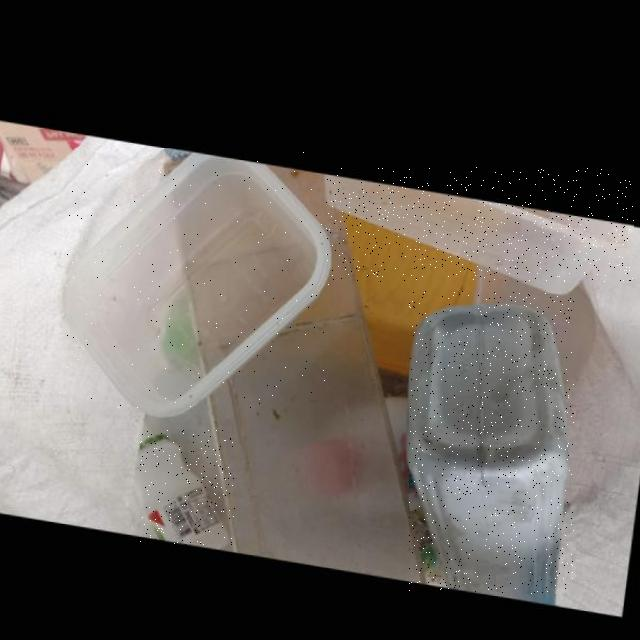plastic: (66, 148, 334, 412), (410, 292, 574, 594), (325, 168, 634, 282), (139, 431, 235, 545)
